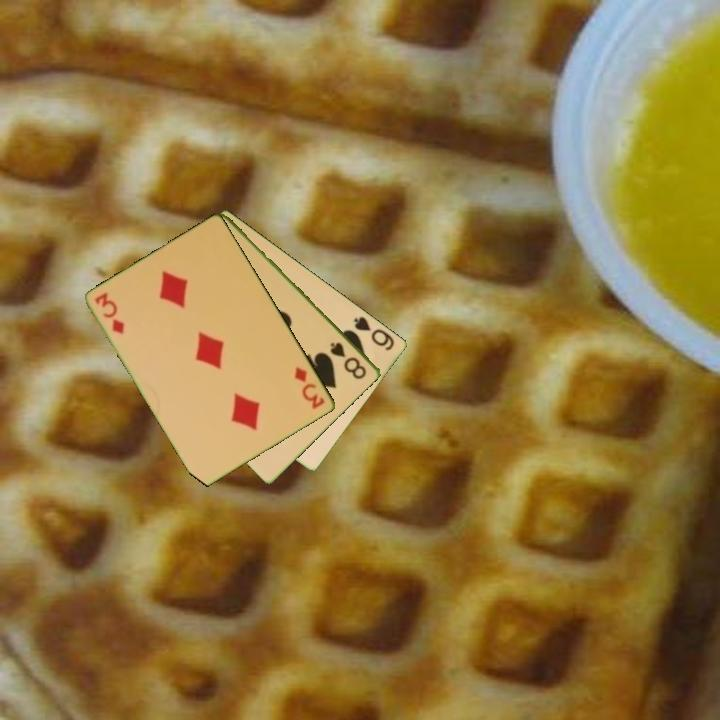3d: (291, 363, 328, 412), (92, 289, 128, 337)
6s: (350, 313, 398, 354)
8s: (327, 339, 370, 382)
